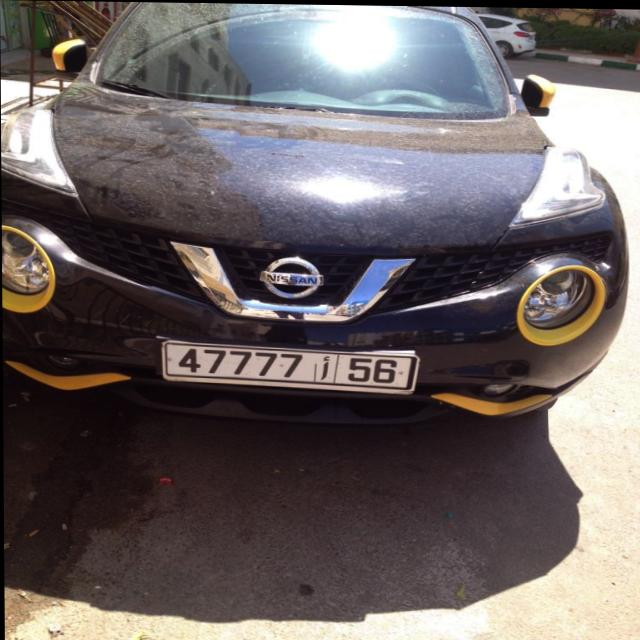License-Plate: (160, 339, 419, 393)
